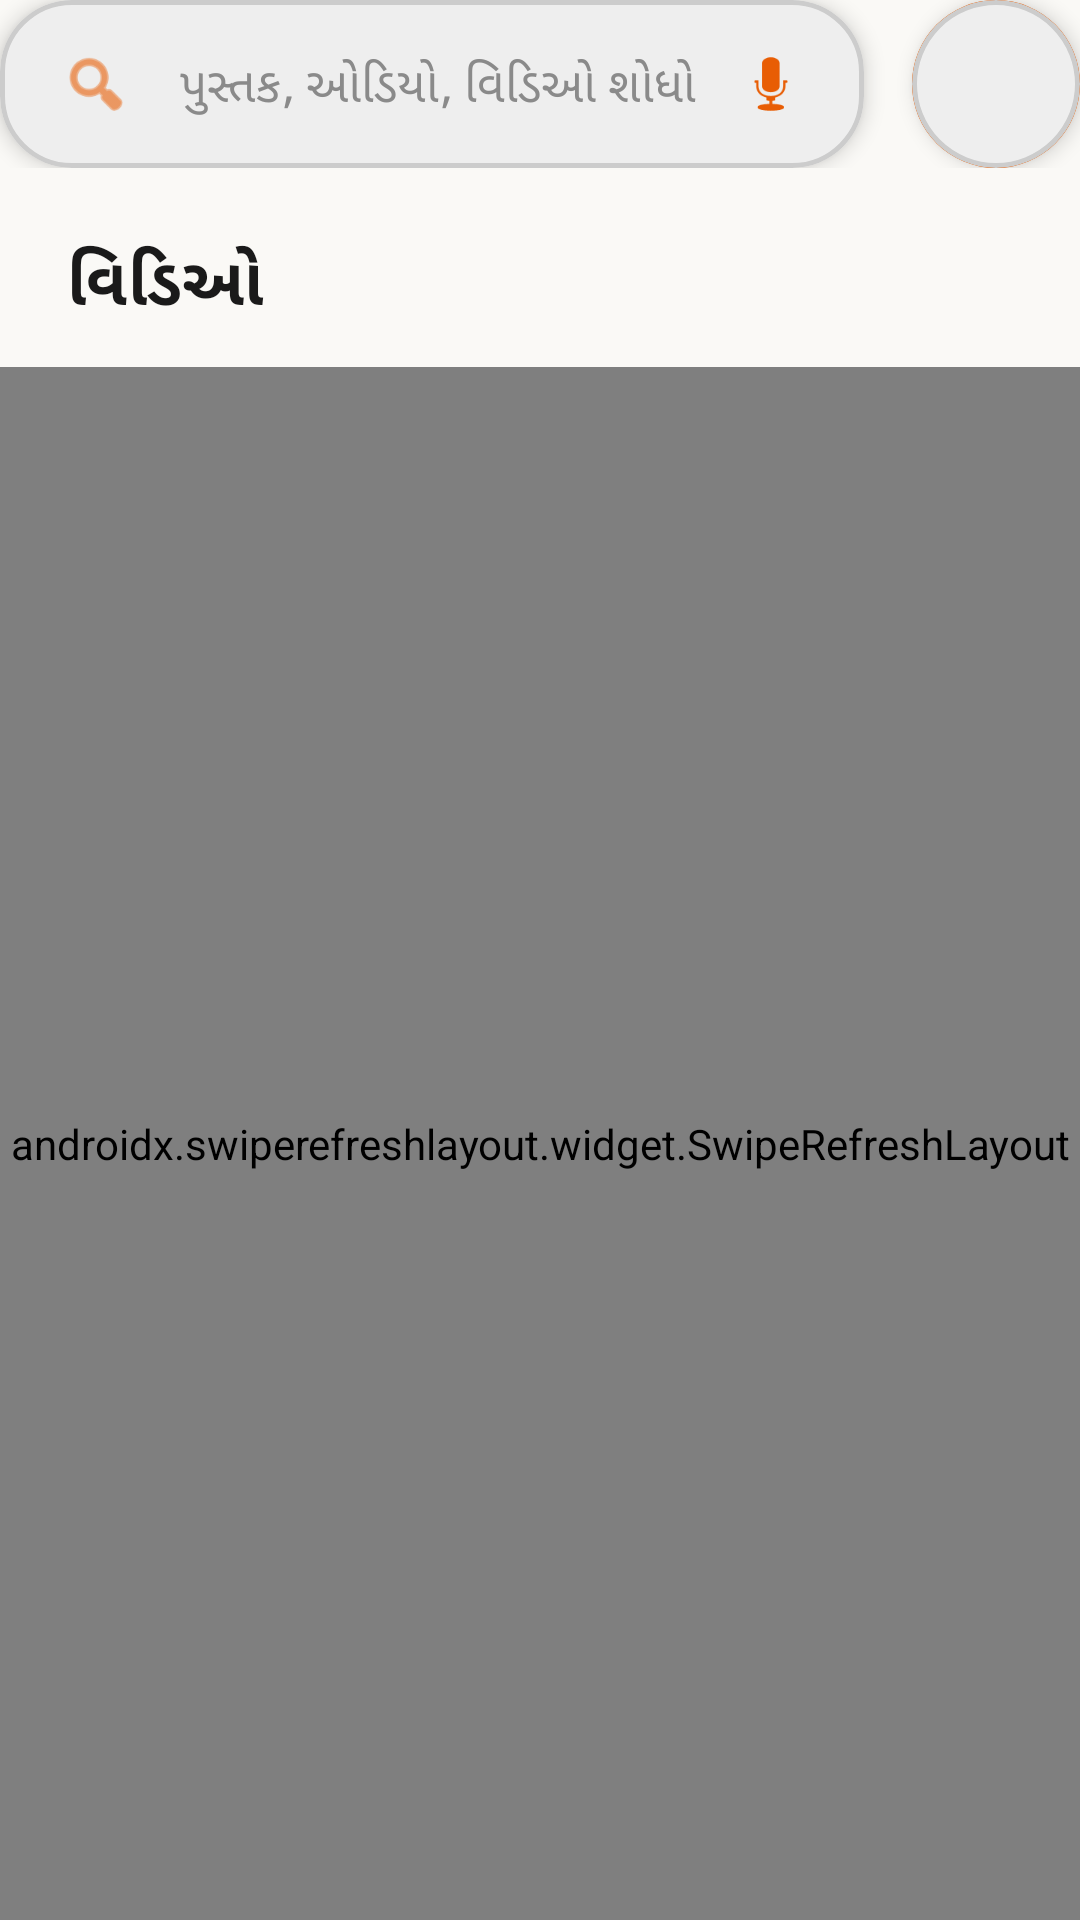

Icon bounding boxes for this 1080 × 1920 phone screenshot, format (x1, y1, x2, y2):
Search: (69, 58, 123, 111)
Voice search: (754, 57, 788, 111)
